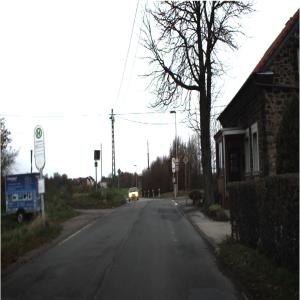DANGER: (175, 155, 180, 165)
